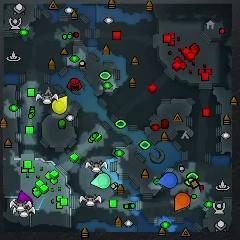p1: (158, 172, 177, 189)
p2: (91, 174, 111, 189)
p3: (17, 190, 32, 204)
p4: (53, 95, 67, 114)
p5: (175, 192, 189, 210)
